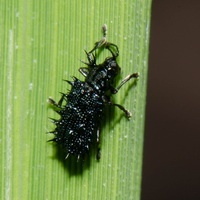insect: (48, 24, 138, 161)
